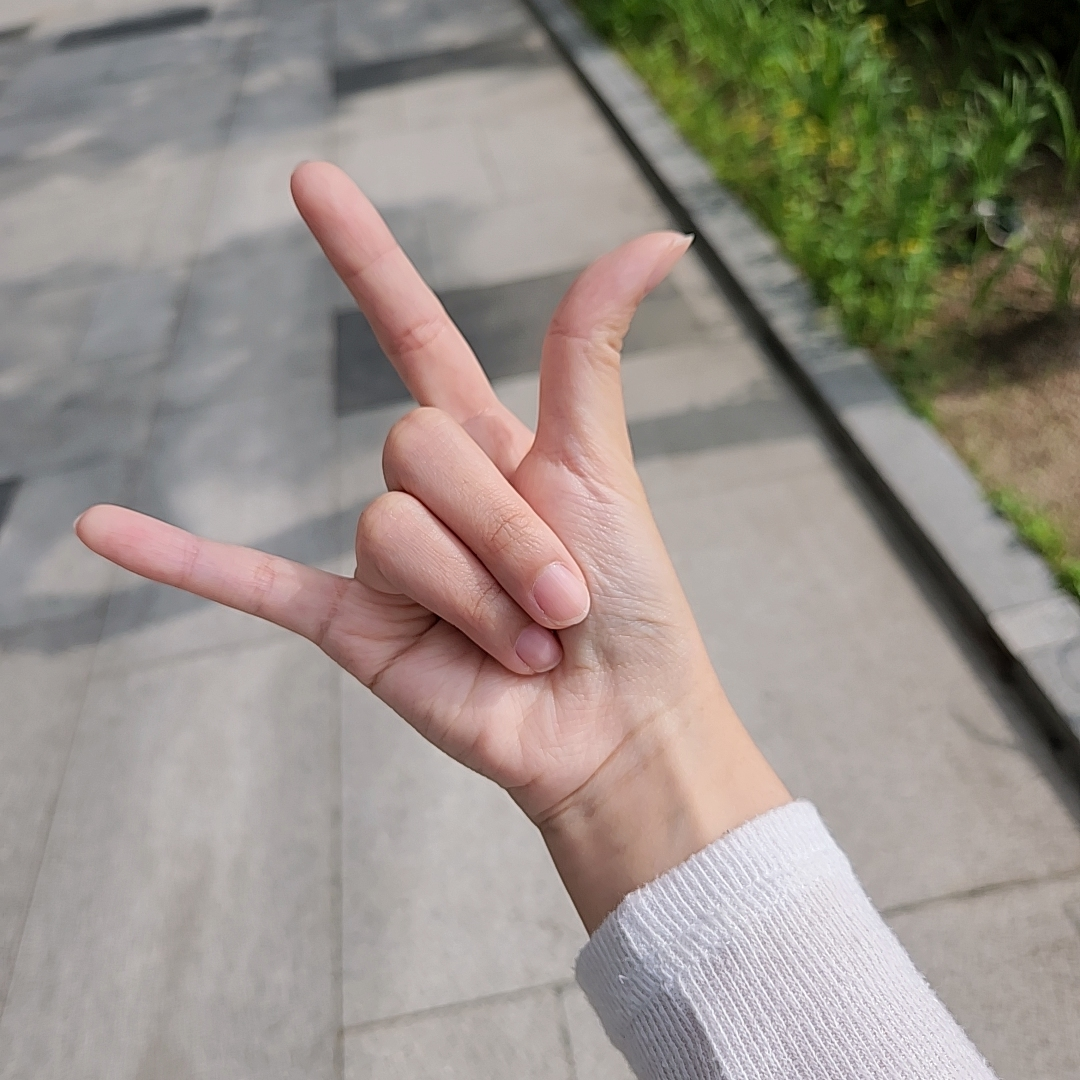iloveyou: (75, 157, 697, 799)
